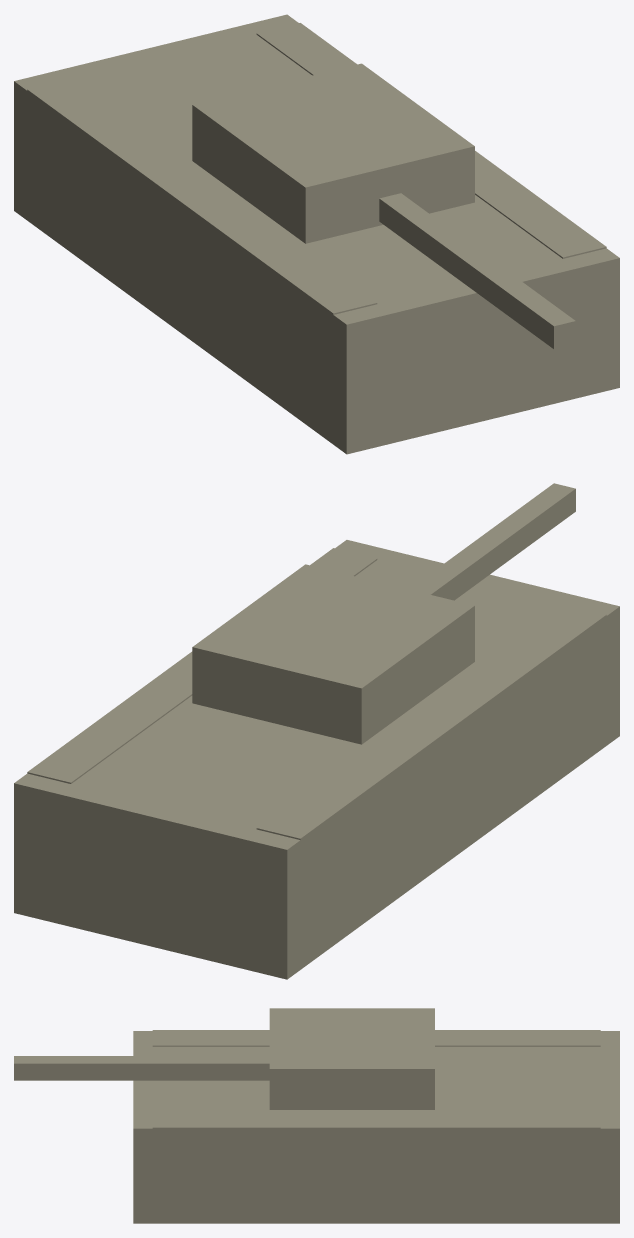
Rendered from wespe.glb.
3 renders of one model, top to bottom at view 1: azimuth 30°, elevation 25°; view 2: azimuth 150°, elevation 25°; view 3: azimuth 270°, elevation 25°, orthographic. The views are drawn at different scales.
Parts seen in each view (by area): view 1: Hull, Turret, Track_L, Gun, Track_R; view 2: Hull, Turret, Track_L, Track_R, Gun; view 3: Hull, Track_R, Turret, Gun, Track_L.
Part boxes in pixels (x1=…): Hull: x1=14, y1=14, x2=619, y2=454; Turret: x1=192, y1=63, x2=474, y2=243; Track_L: x1=27, y1=79, x2=377, y2=370; Gun: x1=379, y1=193, x2=575, y2=349; Track_R: x1=256, y1=23, x2=606, y2=258; Hull: x1=14, y1=540, x2=619, y2=979; Turret: x1=192, y1=564, x2=474, y2=744; Track_L: x1=256, y1=604, x2=606, y2=900; Track_R: x1=27, y1=548, x2=377, y2=783; Gun: x1=409, y1=483, x2=575, y2=600; Hull: x1=133, y1=1031, x2=619, y2=1223; Track_R: x1=152, y1=1112, x2=600, y2=1173; Turret: x1=269, y1=1008, x2=434, y2=1109; Gun: x1=14, y1=1056, x2=269, y2=1080; Track_L: x1=152, y1=1030, x2=600, y2=1046.
Size of the model in its own units: 2.28 by 1.48 by 5.99.
